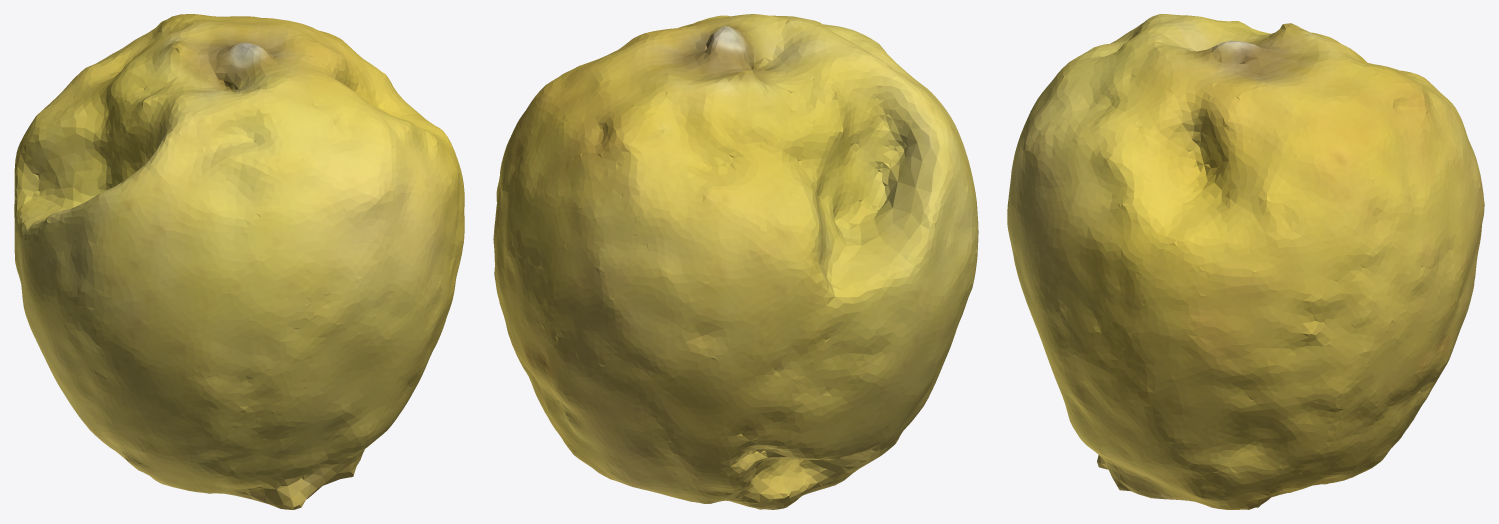
The model's file is apple.fbx.
3 views of the same model, side by side, from view 1: azimuth 30°, elevation 25°; view 2: azimuth 150°, elevation 25°; view 3: azimuth 270°, elevation 25° (orthographic). The views are drawn at different scales.
Parts seen in each view (by area): view 1: 1471; view 2: 1471; view 3: 1471.
Part boxes in pixels (left/top/right/bottom): 1471: left=14, top=14, right=464, bottom=509; 1471: left=493, top=14, right=978, bottom=509; 1471: left=1007, top=14, right=1484, bottom=509.
Bounding box in the file's own units: 8.33 × 8.55 × 8.35.
1 material, 1 textured.
